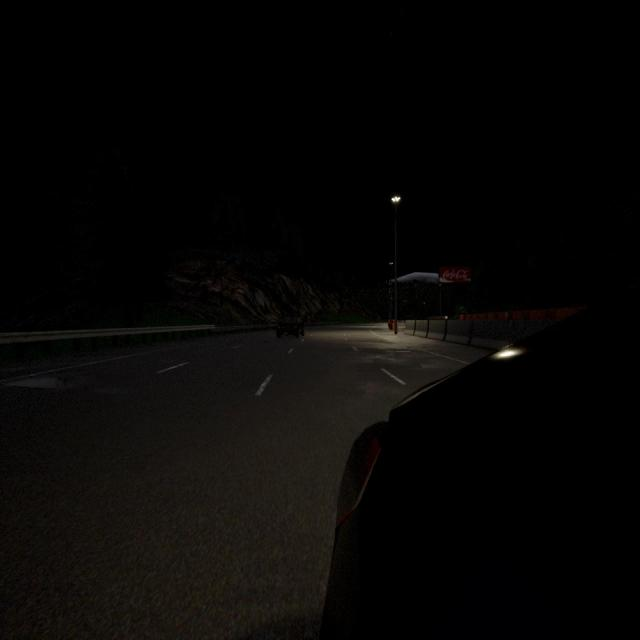Vehicle: (321, 287, 639, 637), (276, 316, 304, 338)
